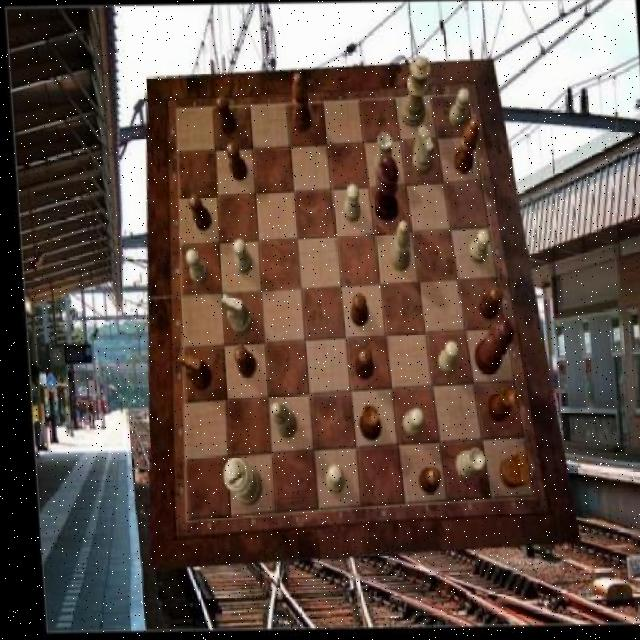bishop: (450, 119, 480, 175), (289, 73, 311, 132)
black-bishop: (368, 155, 399, 222)
black-king: (176, 353, 209, 392), (492, 454, 523, 491)
black-knight: (474, 288, 500, 323), (225, 143, 247, 182), (215, 96, 236, 136), (186, 196, 209, 232), (229, 348, 252, 381), (346, 294, 366, 329), (348, 349, 369, 381), (411, 469, 435, 495)
black-pawn: (468, 319, 512, 377)
black-queen: (480, 388, 515, 425), (352, 405, 377, 443)
black-rook: (385, 221, 409, 273), (266, 403, 292, 439)
white-bishop: (216, 459, 256, 507)
white-king: (217, 296, 249, 336), (410, 126, 435, 175)
white-knight: (446, 90, 471, 129), (182, 249, 207, 286), (432, 342, 456, 377), (465, 231, 489, 266), (339, 185, 358, 223), (230, 239, 249, 275), (395, 409, 419, 437), (319, 466, 339, 495)
white-pawn: (396, 57, 432, 128)
white-queen: (369, 134, 392, 182), (448, 450, 480, 483)
